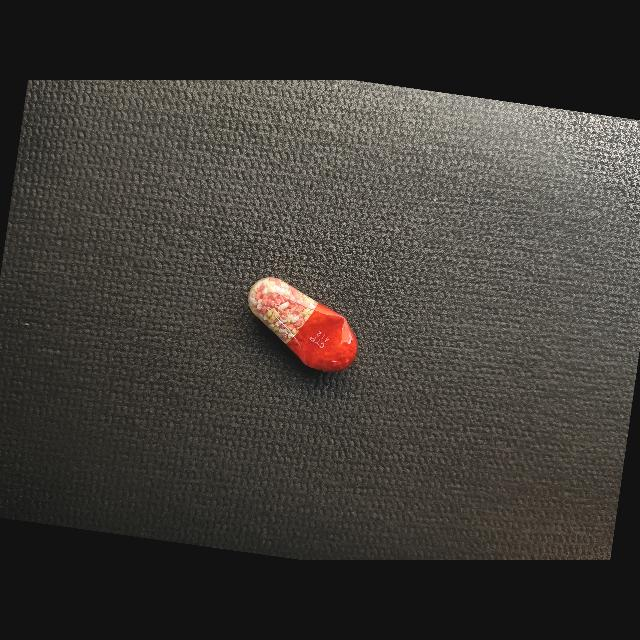Defective Capsule: (248, 277, 357, 372)
